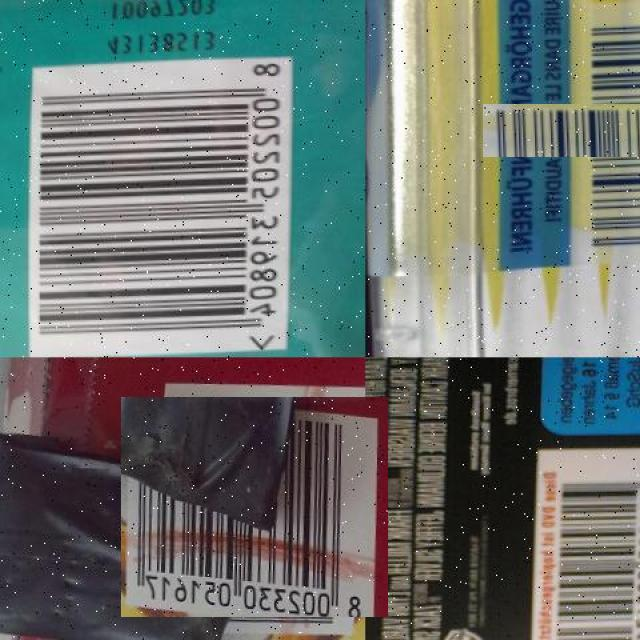Barcode: (28, 52, 293, 356), (132, 385, 377, 628), (532, 444, 640, 640), (535, 51, 640, 209)
